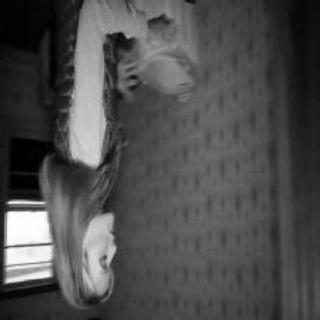other: (54, 2, 74, 160)
